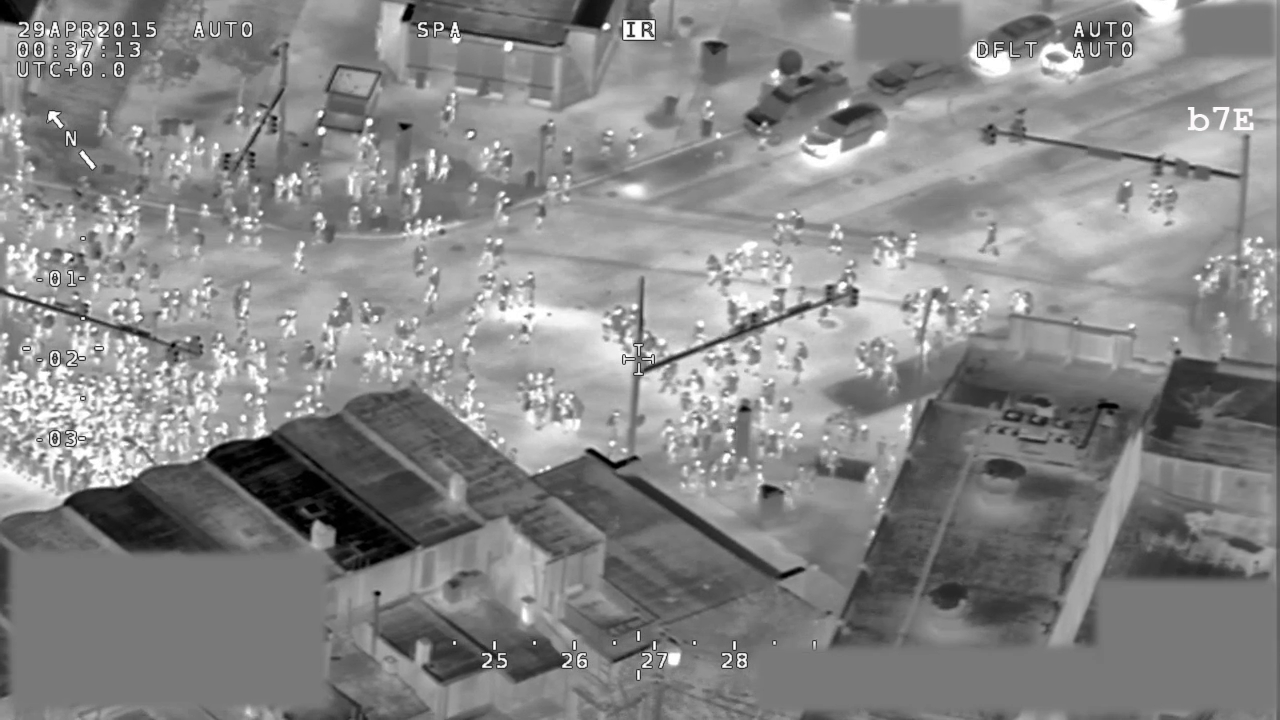vehicle: (735, 47, 859, 149), (795, 97, 894, 167), (1039, 19, 1138, 85), (961, 11, 1060, 75), (862, 58, 963, 108)
